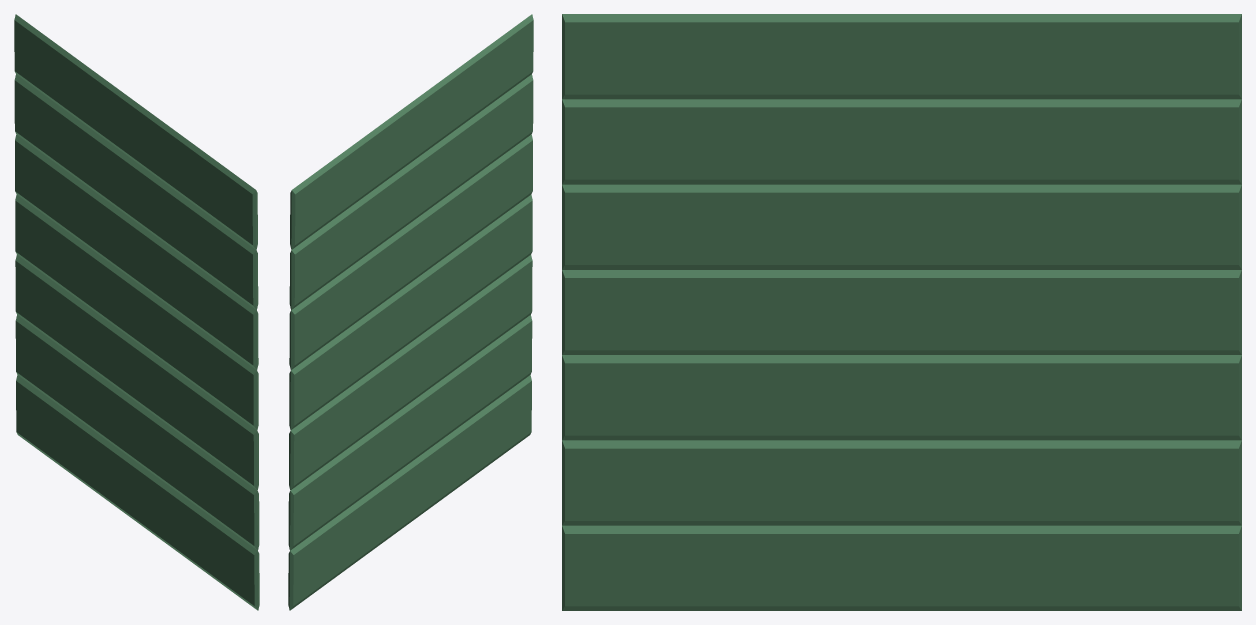
Rendered from priem_open.fbx.
3 views of the same model, side by side, from view 1: azimuth 30°, elevation 25°; view 2: azimuth 150°, elevation 25°; view 3: azimuth 270°, elevation 25° (orthographic). The views are drawn at different scales.
Parts seen in each view (by area): view 1: dveri2; view 2: dveri2; view 3: dveri2.
Boxes of the visible parts, x1,y1,x2,y2 form: dveri2: (14, 14, 259, 610); dveri2: (288, 14, 533, 610); dveri2: (562, 14, 1241, 610).
Size of the model in its own units: 0.3226 by 18.66 by 19.3.
